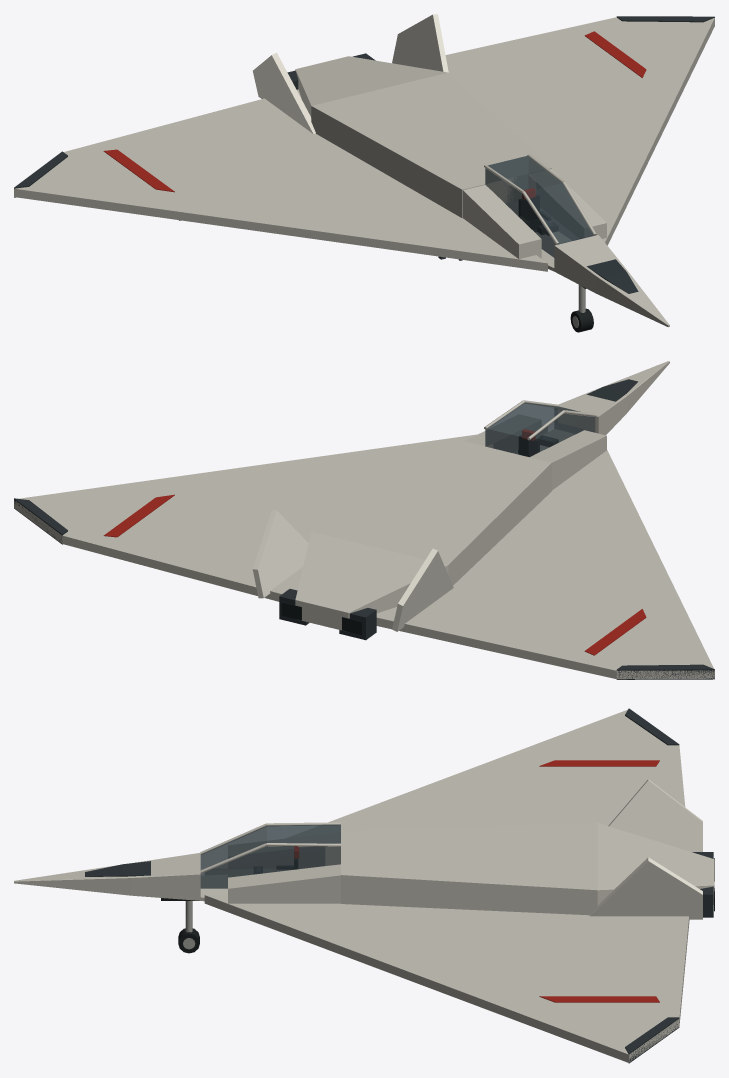
3 views of the same model, one above another, from view 1: azimuth 30°, elevation 25°; view 2: azimuth 150°, elevation 25°; view 3: azimuth 270°, elevation 25° (orthographic).
Visible parts, largest first — view 1: drone-carrier-painted, drone-carrier-glazing, carrier-fin-1-fleet-armor, carrier-fin--1-fleet-armor, crew-chair-pilot-painted, landing-gear-nose-painted; view 2: drone-carrier-painted, drone-carrier-glazing, carrier-fin-1-fleet-armor, carrier-fin--1-fleet-armor, crew-chair-pilot-painted; view 3: drone-carrier-painted, drone-carrier-glazing, carrier-fin-1-fleet-armor, carrier-fin--1-fleet-armor, landing-gear-nose-painted.
Boxes of the visible parts, box(x1,y1,x2,y2) form: drone-carrier-painted: box(14, 16, 714, 327); drone-carrier-glazing: box(485, 156, 595, 257); carrier-fin-1-fleet-armor: box(392, 14, 448, 72); carrier-fin--1-fleet-armor: box(253, 52, 315, 134); crew-chair-pilot-painted: box(518, 188, 558, 235); landing-gear-nose-painted: box(570, 285, 593, 332); drone-carrier-painted: box(14, 361, 714, 679); drone-carrier-glazing: box(485, 402, 595, 457); carrier-fin-1-fleet-armor: box(252, 510, 308, 598); carrier-fin--1-fleet-armor: box(392, 548, 453, 631); crew-chair-pilot-painted: box(518, 429, 558, 456); drone-carrier-painted: box(14, 708, 714, 1063); drone-carrier-glazing: box(200, 824, 340, 888); carrier-fin-1-fleet-armor: box(590, 857, 702, 919); carrier-fin--1-fleet-armor: box(608, 779, 702, 851); landing-gear-nose-painted: box(178, 901, 199, 953).
Bounding box in the file's own units: 110 × 19.63 × 94.74.
